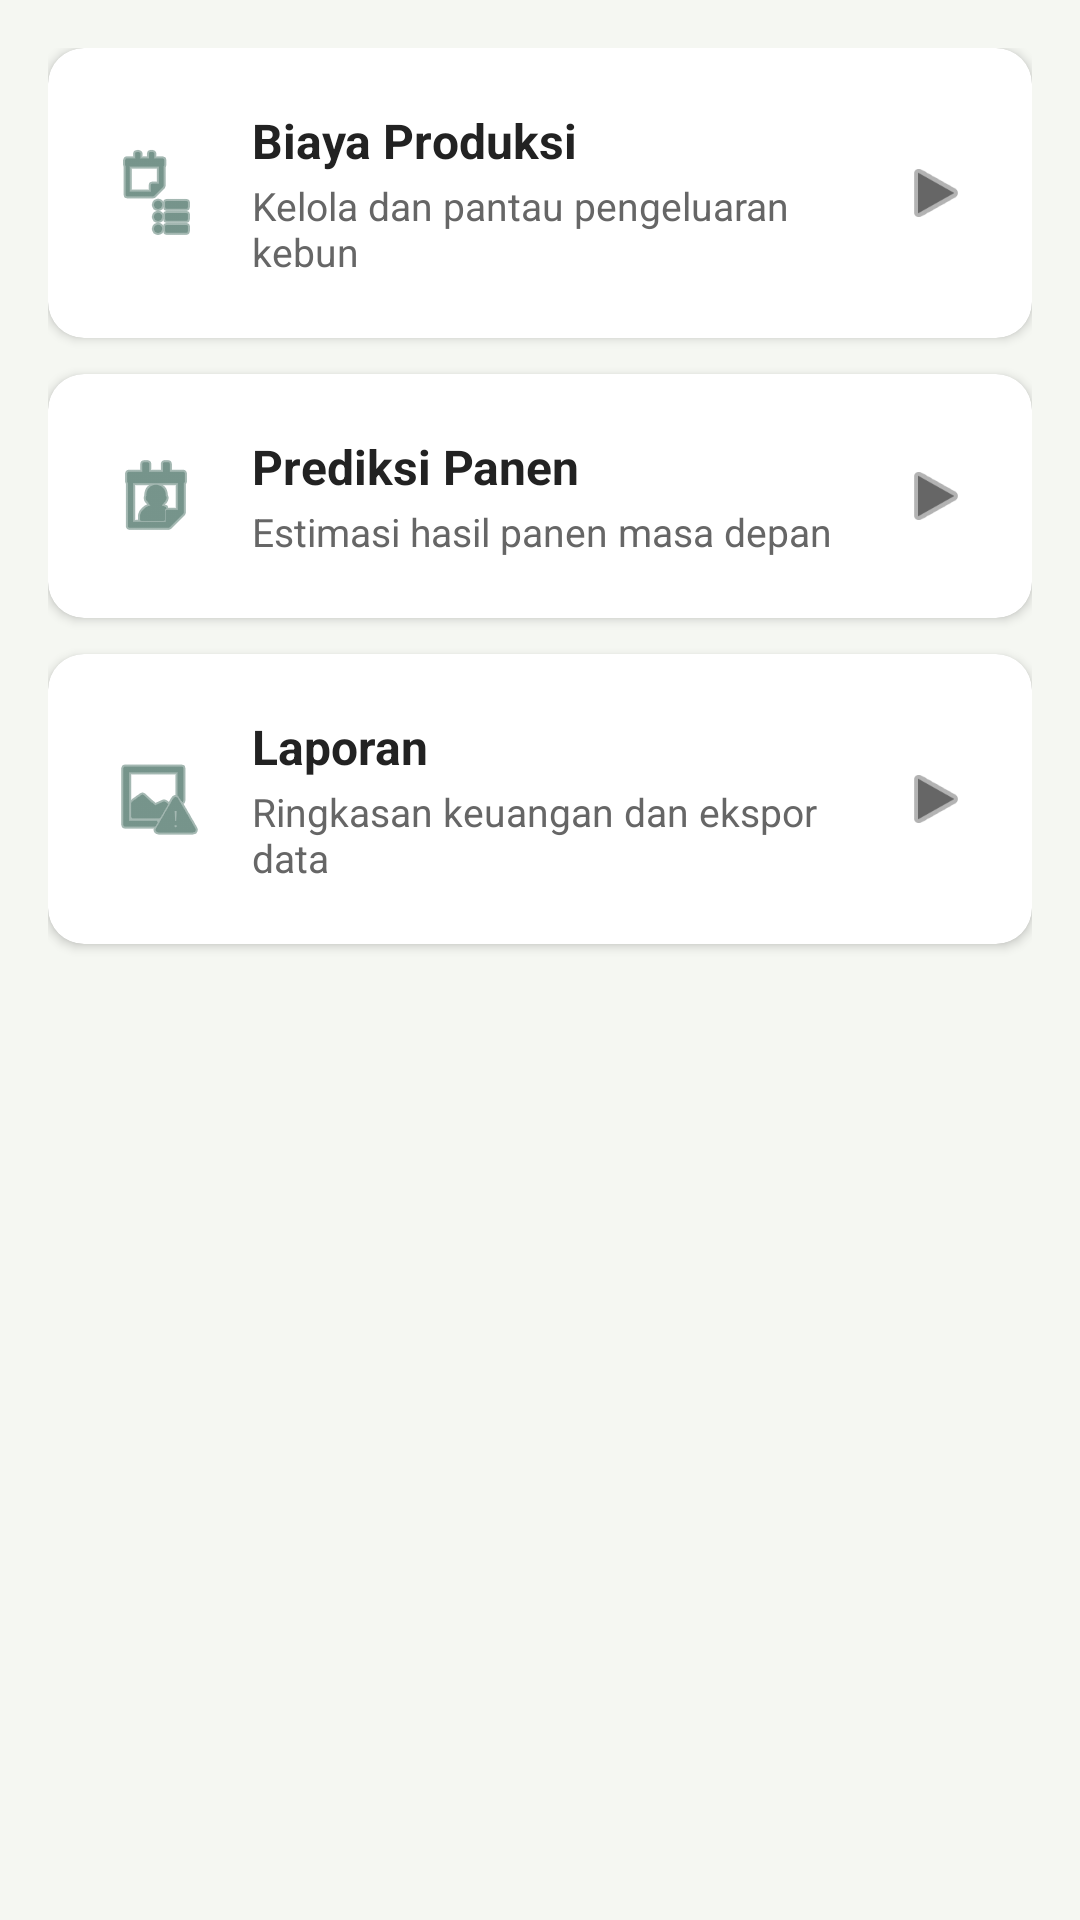

Screen size 1080 x 1920. Icon name, then its center in pixels as point (x, y):
Arrow: point (936, 193), point (936, 496), point (936, 799)
